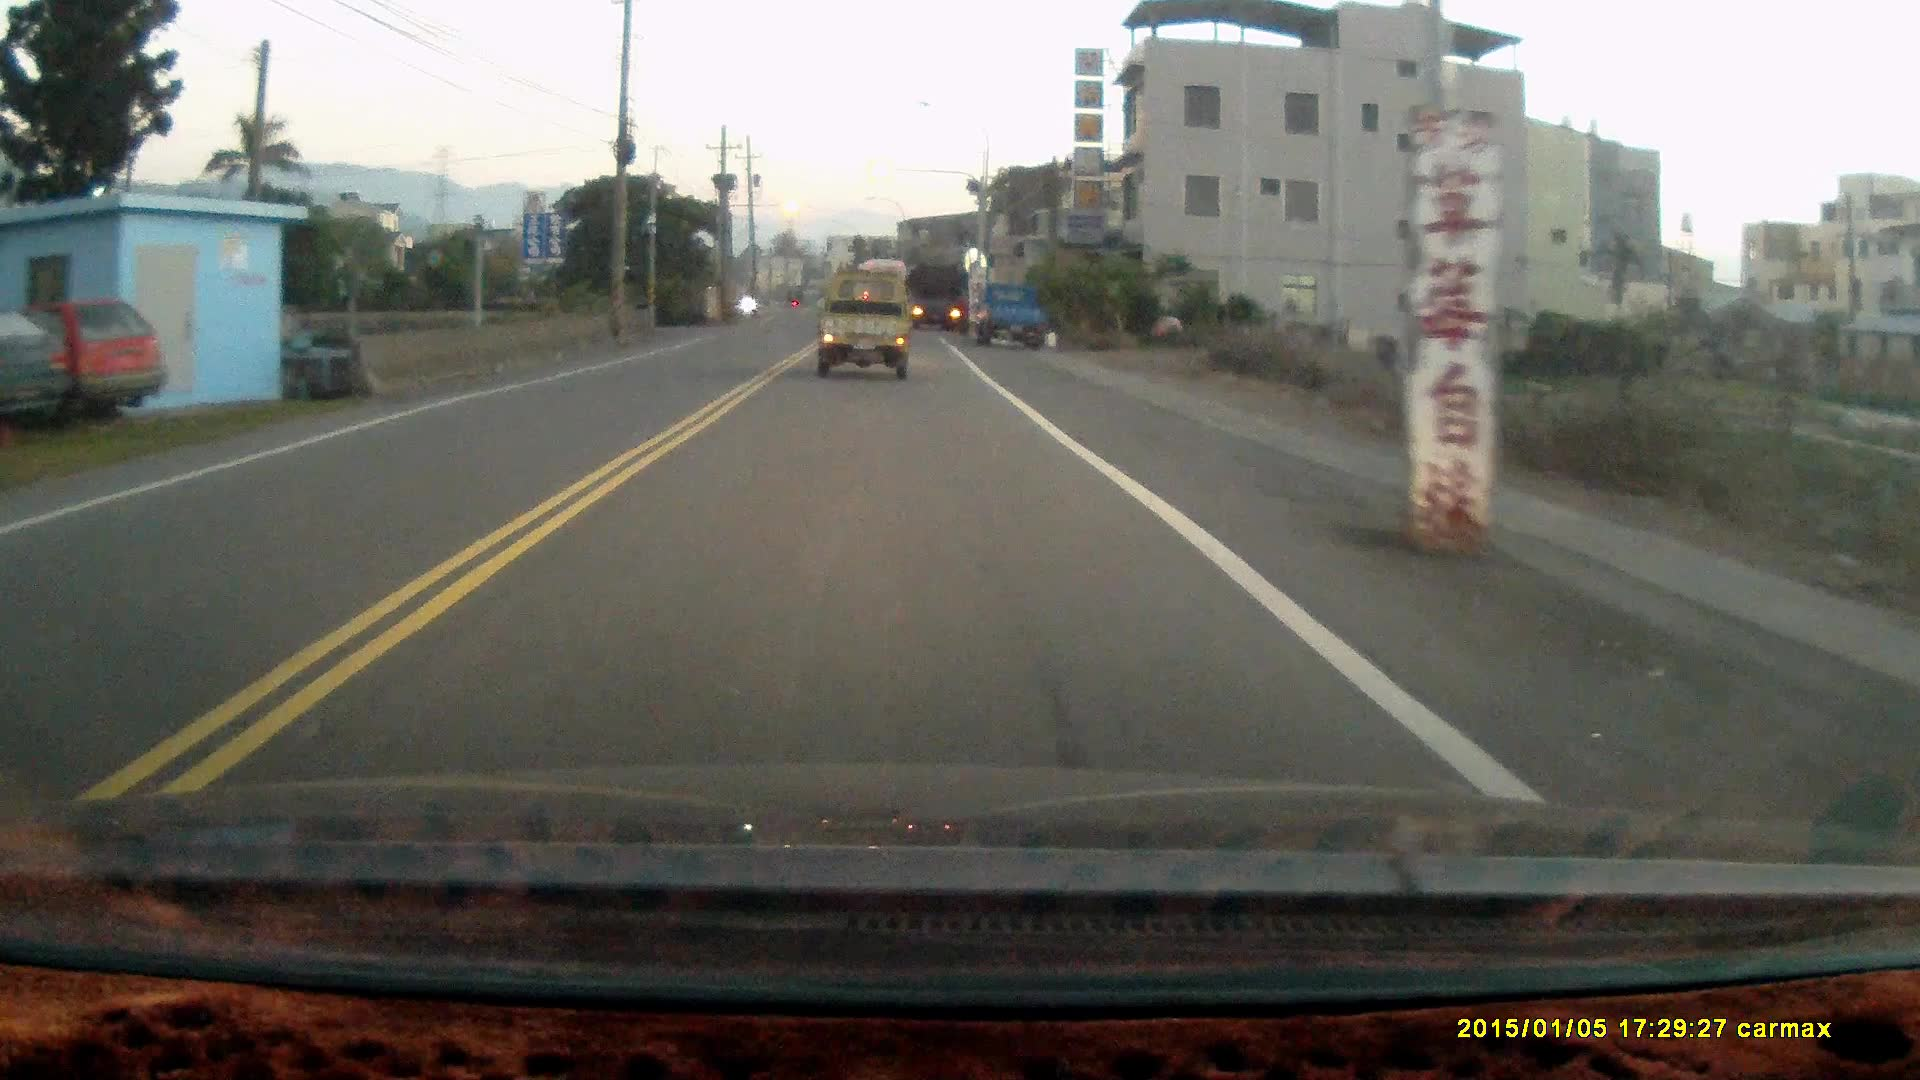vehicle: (7, 301, 167, 429), (815, 276, 916, 380), (1, 303, 61, 436), (971, 284, 1058, 353), (906, 261, 971, 327)
